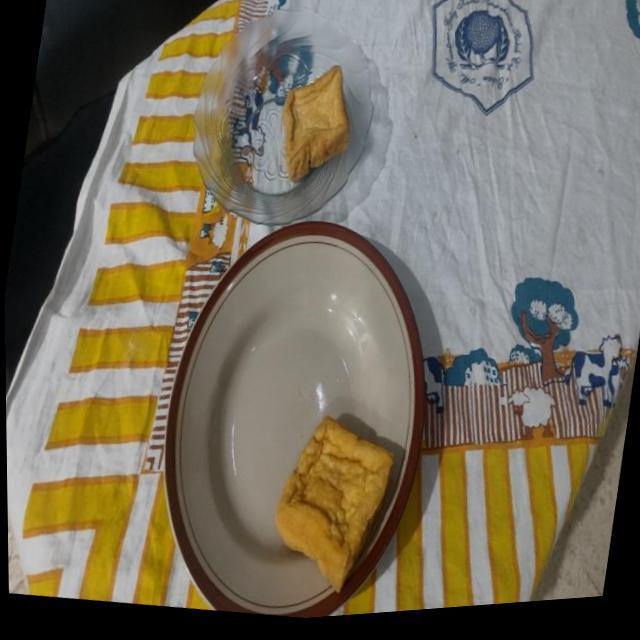tahu_goreng: (276, 416, 393, 591), (282, 65, 349, 182)
